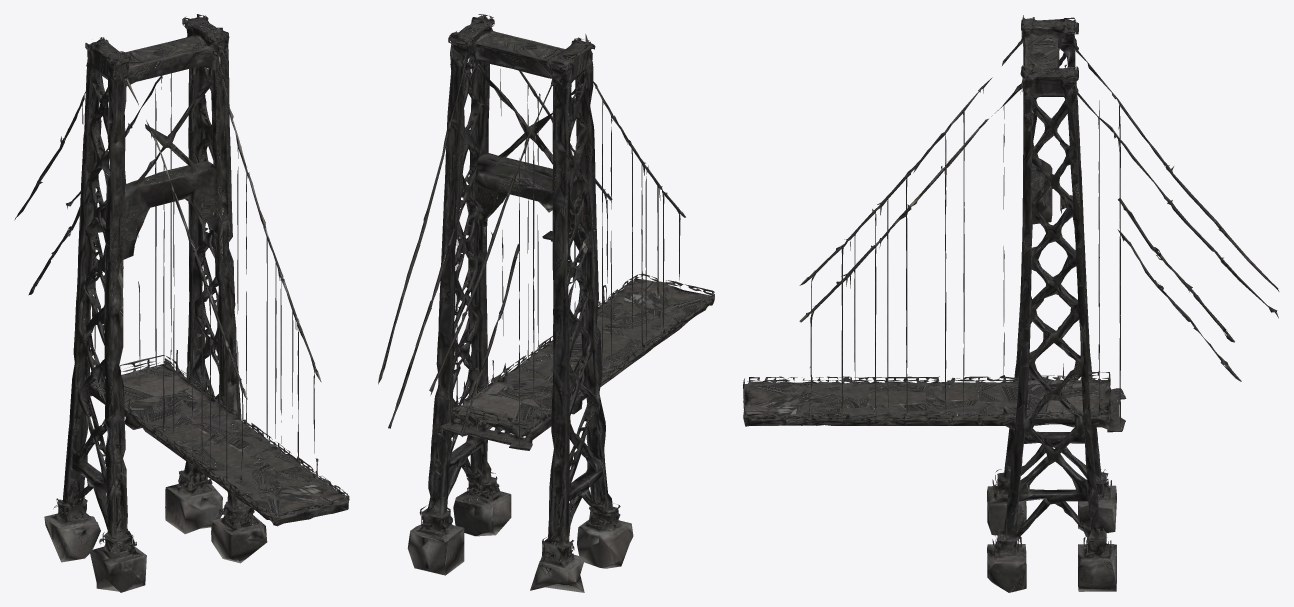
The model's file is teleoperator_dispatchBridgeTower.glb.
The picture shows the model from 3 angles, left to right: view 1: azimuth 30°, elevation 25°; view 2: azimuth 150°, elevation 25°; view 3: azimuth 270°, elevation 25°; orthographic projection. The views are drawn at different scales.
Bounding box in the file's own units: 0.6058 × 1.9 × 1.78.
Materials: 1 (1 with a texture image).
